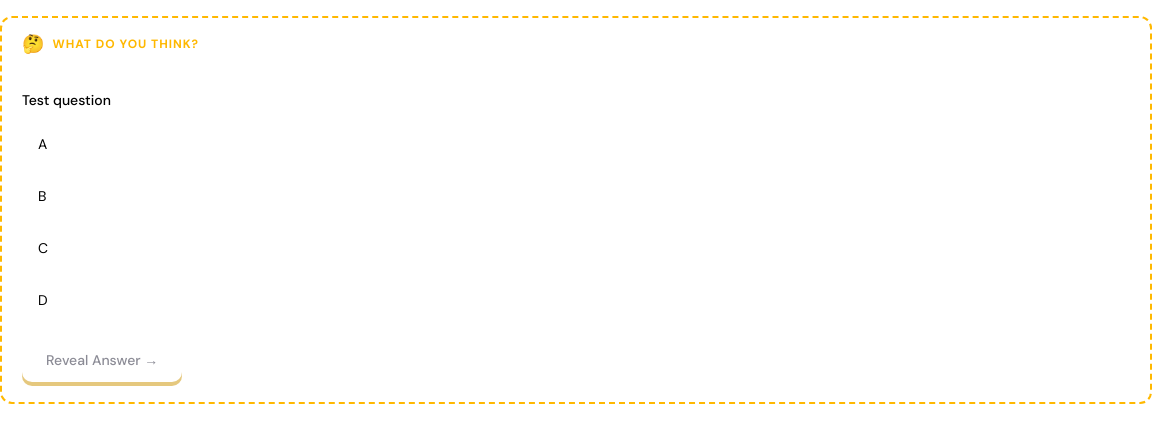
Scenario: PredictionPrompt › clicking an option enables the Reveal Answer button
What coordinates should you click on to do the following:
click the button "A"
I would click on:
 (43, 144)
Its box is 22,122 -> 1130,166.
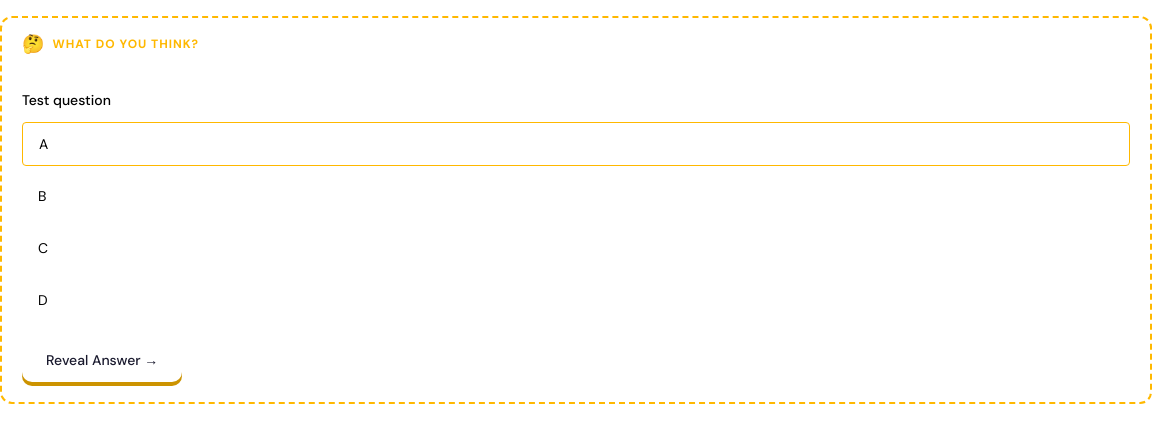
Expected: the button "Reveal Answer →" is enabled, 22,338 -> 182,382
